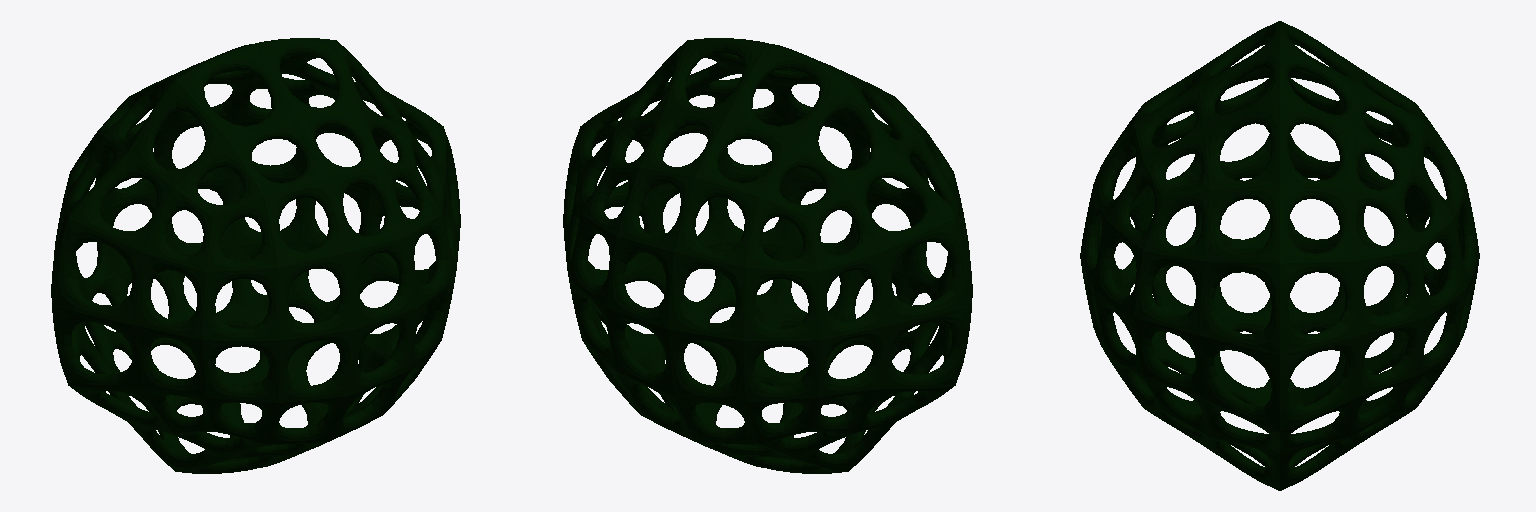
Rendered from placeholder_player.obj.
3 views of the same model, side by side, from view 1: azimuth 30°, elevation 25°; view 2: azimuth 150°, elevation 25°; view 3: azimuth 270°, elevation 25° (orthographic).
Parts seen in each view (by area): view 1: Cube_Cube.001; view 2: Cube_Cube.001; view 3: Cube_Cube.001.
Boxes of the visible parts, x1,y1,x2,y2 form: Cube_Cube.001: [51, 38, 460, 473]; Cube_Cube.001: [563, 38, 972, 473]; Cube_Cube.001: [1080, 21, 1479, 490].
Size of the model in its own units: 0.6687 by 0.6687 by 0.5707.